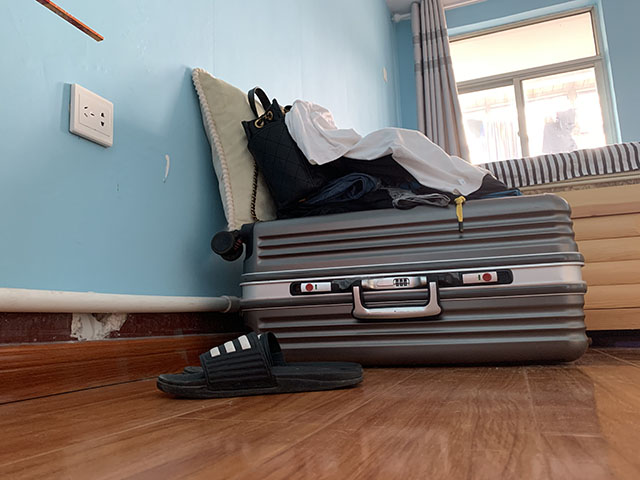slippers: (154, 331, 365, 400)
